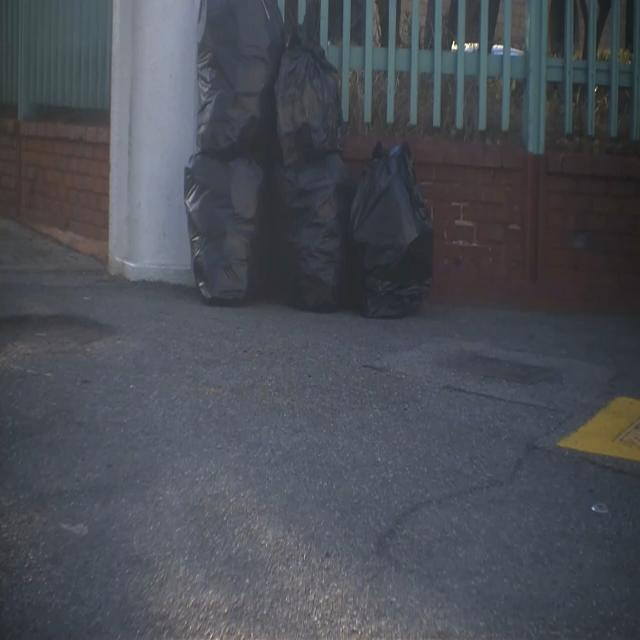Pothole: (0, 314, 114, 368)
